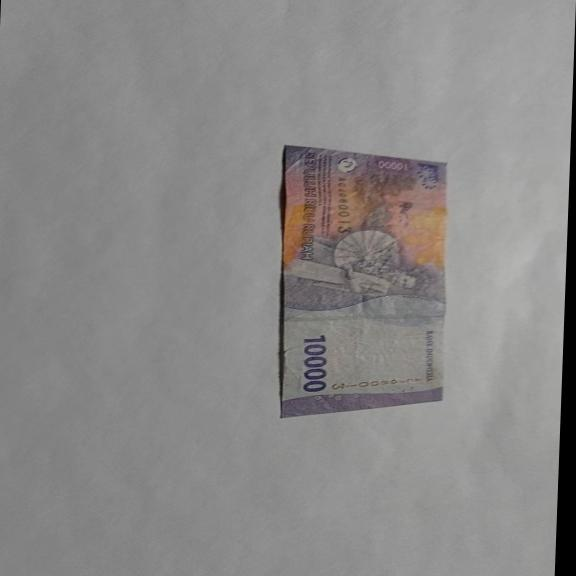Kertas: (271, 144, 455, 418), (299, 334, 330, 393)
